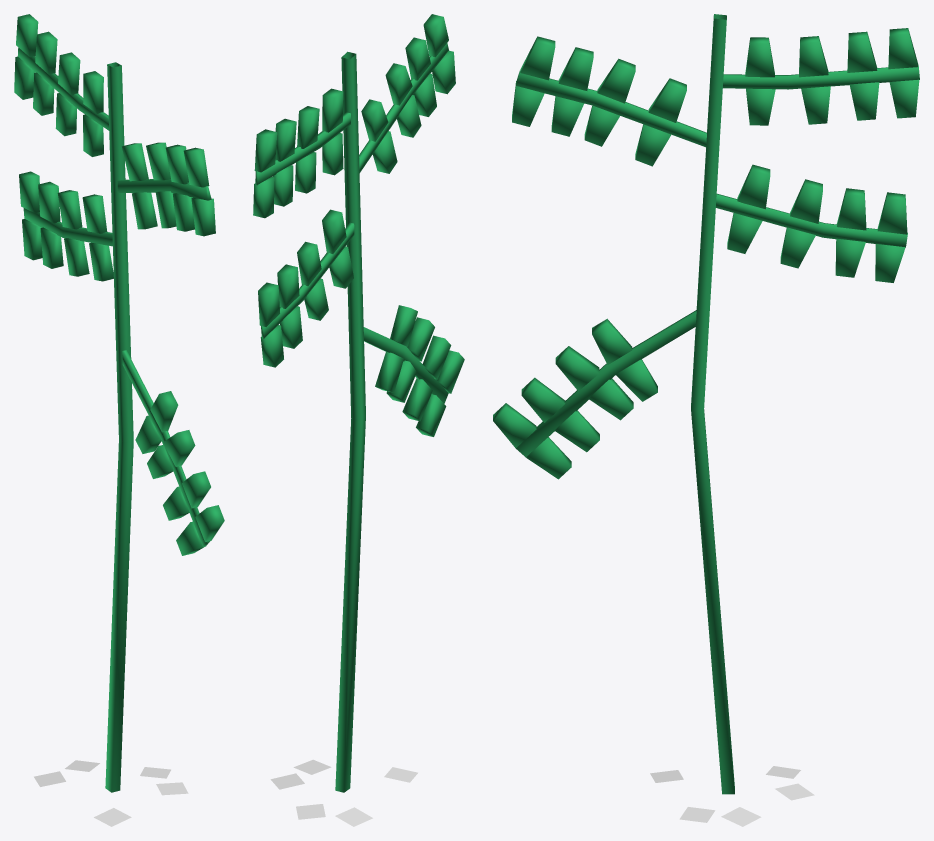
The model's file is lentils.glb.
3 views of the same model, side by side, from view 1: azimuth 30°, elevation 25°; view 2: azimuth 150°, elevation 25°; view 3: azimuth 270°, elevation 25° (orthographic). The views are drawn at different scales.
Parts seen in each view (by area): view 1: lentils; view 2: lentils, lentils_copy.007; view 3: lentils.
Part boxes in pixels (x1,y1,x2,y2): lentils: [14, 14, 224, 792]; lentils: [253, 14, 464, 792]; lentils_copy.007: [335, 807, 372, 826]; lentils: [493, 14, 919, 794].
Size of the model in its own units: 0.1248 by 0.7442 by 0.3711.
